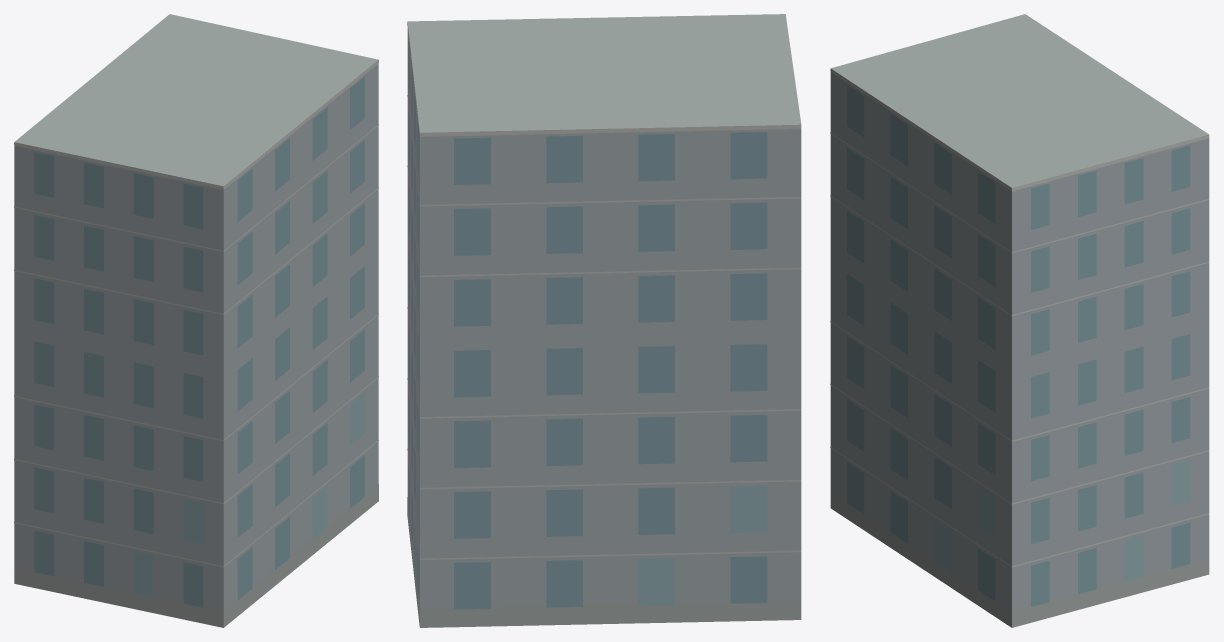
The model's file is survey-upis-32694699.glb.
3 renders of one model, left to right at view 1: azimuth 30°, elevation 25°; view 2: azimuth 150°, elevation 25°; view 3: azimuth 270°, elevation 25°, orthographic. The views are drawn at different scales.
Parts seen in each view (by area): view 1: survey-upis-32694699.tmp; view 2: survey-upis-32694699.tmp; view 3: survey-upis-32694699.tmp.
Part boxes in pixels (x1=…): survey-upis-32694699.tmp: x1=14, y1=14, x2=378, y2=627; survey-upis-32694699.tmp: x1=407, y1=14, x2=801, y2=627; survey-upis-32694699.tmp: x1=830, y1=14, x2=1209, y2=627.
Bounding box in the file's own units: 24.79 × 29.2 × 22.8.
